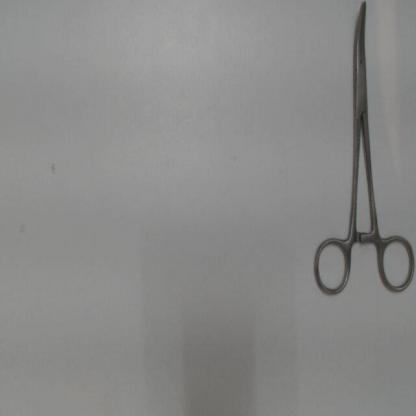Crile Artery Forceps: (307, 1, 414, 301)
